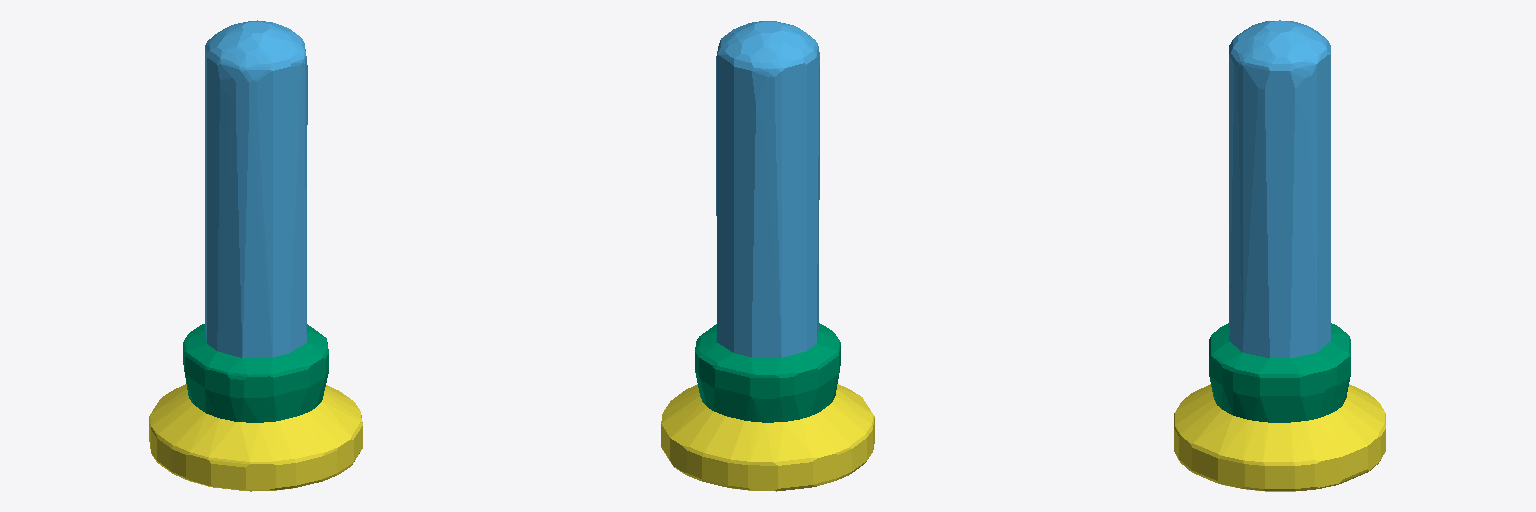
The robot description file, URDF, robot "sem-Candle-1be58678b919b12bc5fe7f65b41f3b19":
<?xml version="1.0"?>
<robot name="sem-Candle-1be58678b919b12bc5fe7f65b41f3b19">
  <link name="object_root"/>
  <link name="convex_piece_000">
    <visual><geometry><mesh filename="pieces/piece_000.obj"/></geometry></visual>
    <collision><geometry><mesh filename="pieces/piece_000.obj"/></geometry></collision>
  </link>
  <joint name="piece_joint_000" type="fixed">
    <parent link="object_root"/>
    <child link="convex_piece_000"/>
    <origin xyz="0 0 0" rpy="0 0 0"/>
  </joint>
  <link name="convex_piece_001">
    <visual><geometry><mesh filename="pieces/piece_001.obj"/></geometry></visual>
    <collision><geometry><mesh filename="pieces/piece_001.obj"/></geometry></collision>
  </link>
  <joint name="piece_joint_001" type="fixed">
    <parent link="object_root"/>
    <child link="convex_piece_001"/>
    <origin xyz="0 0 0" rpy="0 0 0"/>
  </joint>
  <link name="convex_piece_002">
    <visual><geometry><mesh filename="pieces/piece_002.obj"/></geometry></visual>
    <collision><geometry><mesh filename="pieces/piece_002.obj"/></geometry></collision>
  </link>
  <joint name="piece_joint_002" type="fixed">
    <parent link="object_root"/>
    <child link="convex_piece_002"/>
    <origin xyz="0 0 0" rpy="0 0 0"/>
  </joint>
</robot>

--- Render facts (derived) ---
Views: 3 orthographic renders of the robot side by side, from view 1: azimuth 30°, elevation 25°; view 2: azimuth 150°, elevation 25°; view 3: azimuth 270°, elevation 25°.
Robot: sem-Candle-1be58678b919b12bc5fe7f65b41f3b19 — 4 links, 3 joints (3 fixed); root link object_root; default pose: all joints at 0.
Visible links, largest first — view 1: convex_piece_000, convex_piece_002, convex_piece_001; view 2: convex_piece_000, convex_piece_002, convex_piece_001; view 3: convex_piece_000, convex_piece_002, convex_piece_001.
Link boxes in pixels (left/top/right/bottom): convex_piece_000: left=205, top=20, right=307, bottom=357; convex_piece_002: left=149, top=384, right=362, bottom=491; convex_piece_001: left=183, top=324, right=328, bottom=422; convex_piece_000: left=716, top=21, right=819, bottom=357; convex_piece_002: left=661, top=384, right=874, bottom=491; convex_piece_001: left=695, top=323, right=840, bottom=422; convex_piece_000: left=1229, top=20, right=1330, bottom=357; convex_piece_002: left=1174, top=384, right=1385, bottom=491; convex_piece_001: left=1209, top=323, right=1350, bottom=422.
Size in the robot's own frame: 0.0817 by 0.0817 by 0.179 metres.
Meshes: 3 distinct files referenced, 3 mesh visuals loaded (3 OBJ).
